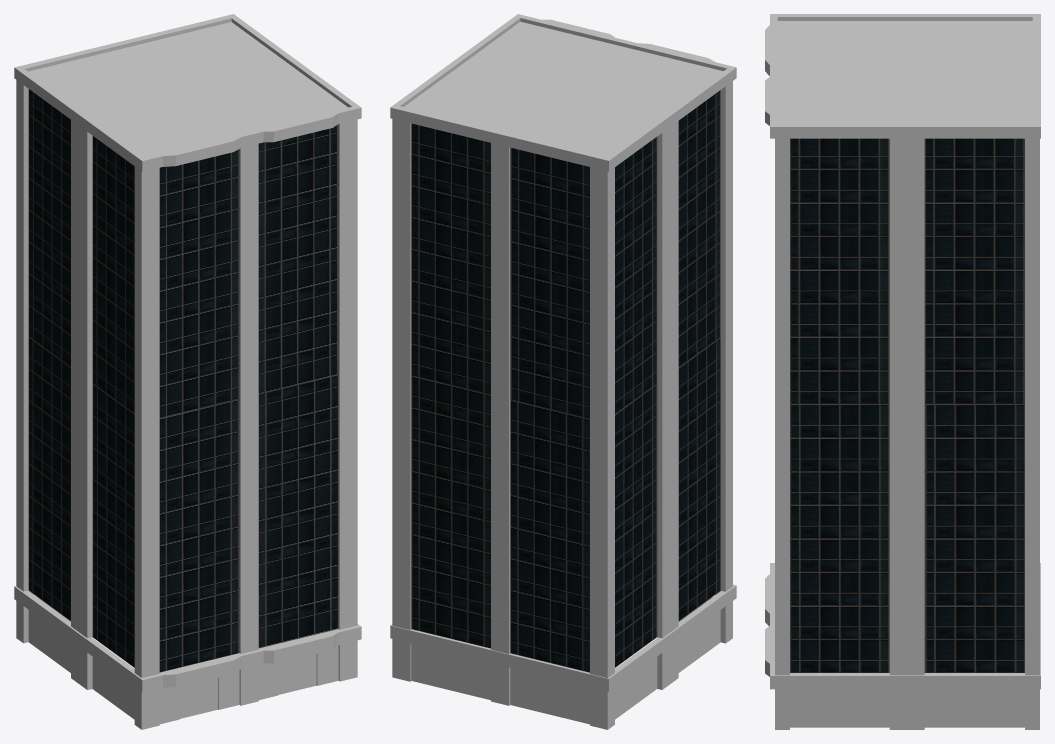
The picture shows the model from 3 angles, left to right: view 1: azimuth 30°, elevation 25°; view 2: azimuth 150°, elevation 25°; view 3: azimuth 270°, elevation 25°; orthographic projection. The views are drawn at different scales.
Parts seen in each view (by area): view 1: BC-091; view 2: BC-091; view 3: BC-091.
Part boxes in pixels (x1=…): BC-091: x1=14, y1=14, x2=361, y2=729; BC-091: x1=390, y1=14, x2=736, y2=729; BC-091: x1=765, y1=14, x2=1040, y2=729.
Size of what is drawn, in the model's own units: 17.82 by 44.34 by 18.37.
